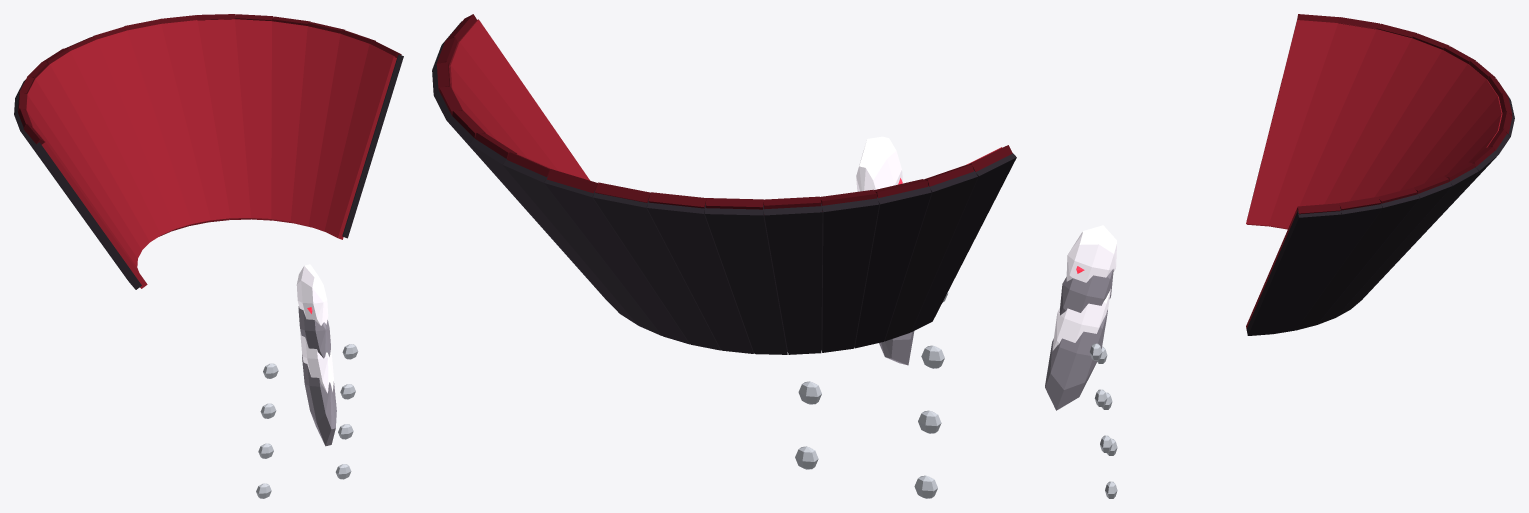
The model's file is morvaine_noble_collar.glb.
3 views of the same model, side by side, from view 1: azimuth 30°, elevation 25°; view 2: azimuth 150°, elevation 25°; view 3: azimuth 270°, elevation 25° (orthographic). The views are drawn at different scales.
Parts seen in each view (by area): view 1: morvaine_noble_collar; view 2: morvaine_noble_collar; view 3: morvaine_noble_collar.
Boxes of the visible parts, x1=… form: morvaine_noble_collar: x1=14, y1=14, x2=403, y2=498; morvaine_noble_collar: x1=432, y1=14, x2=1016, y2=498; morvaine_noble_collar: x1=1045, y1=14, x2=1514, y2=498.
Size of the model in its own units: 1.12 by 0.9564 by 1.11.
